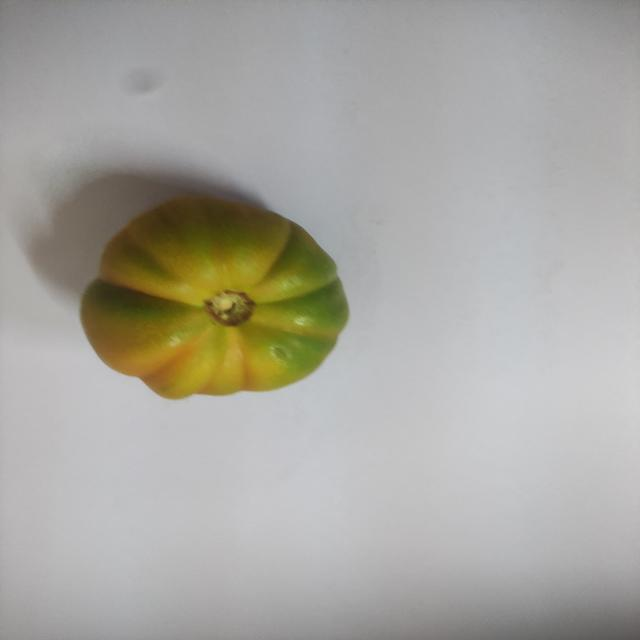yesil: (79, 183, 350, 414)
